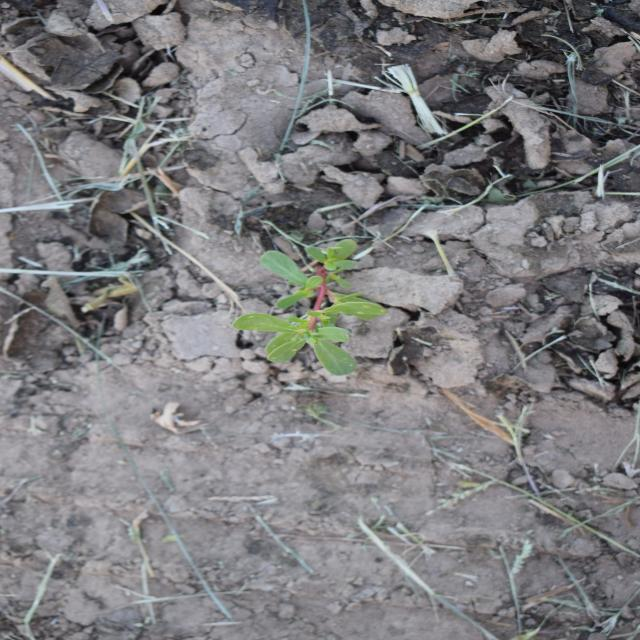Purslane: (230, 238, 388, 376)
